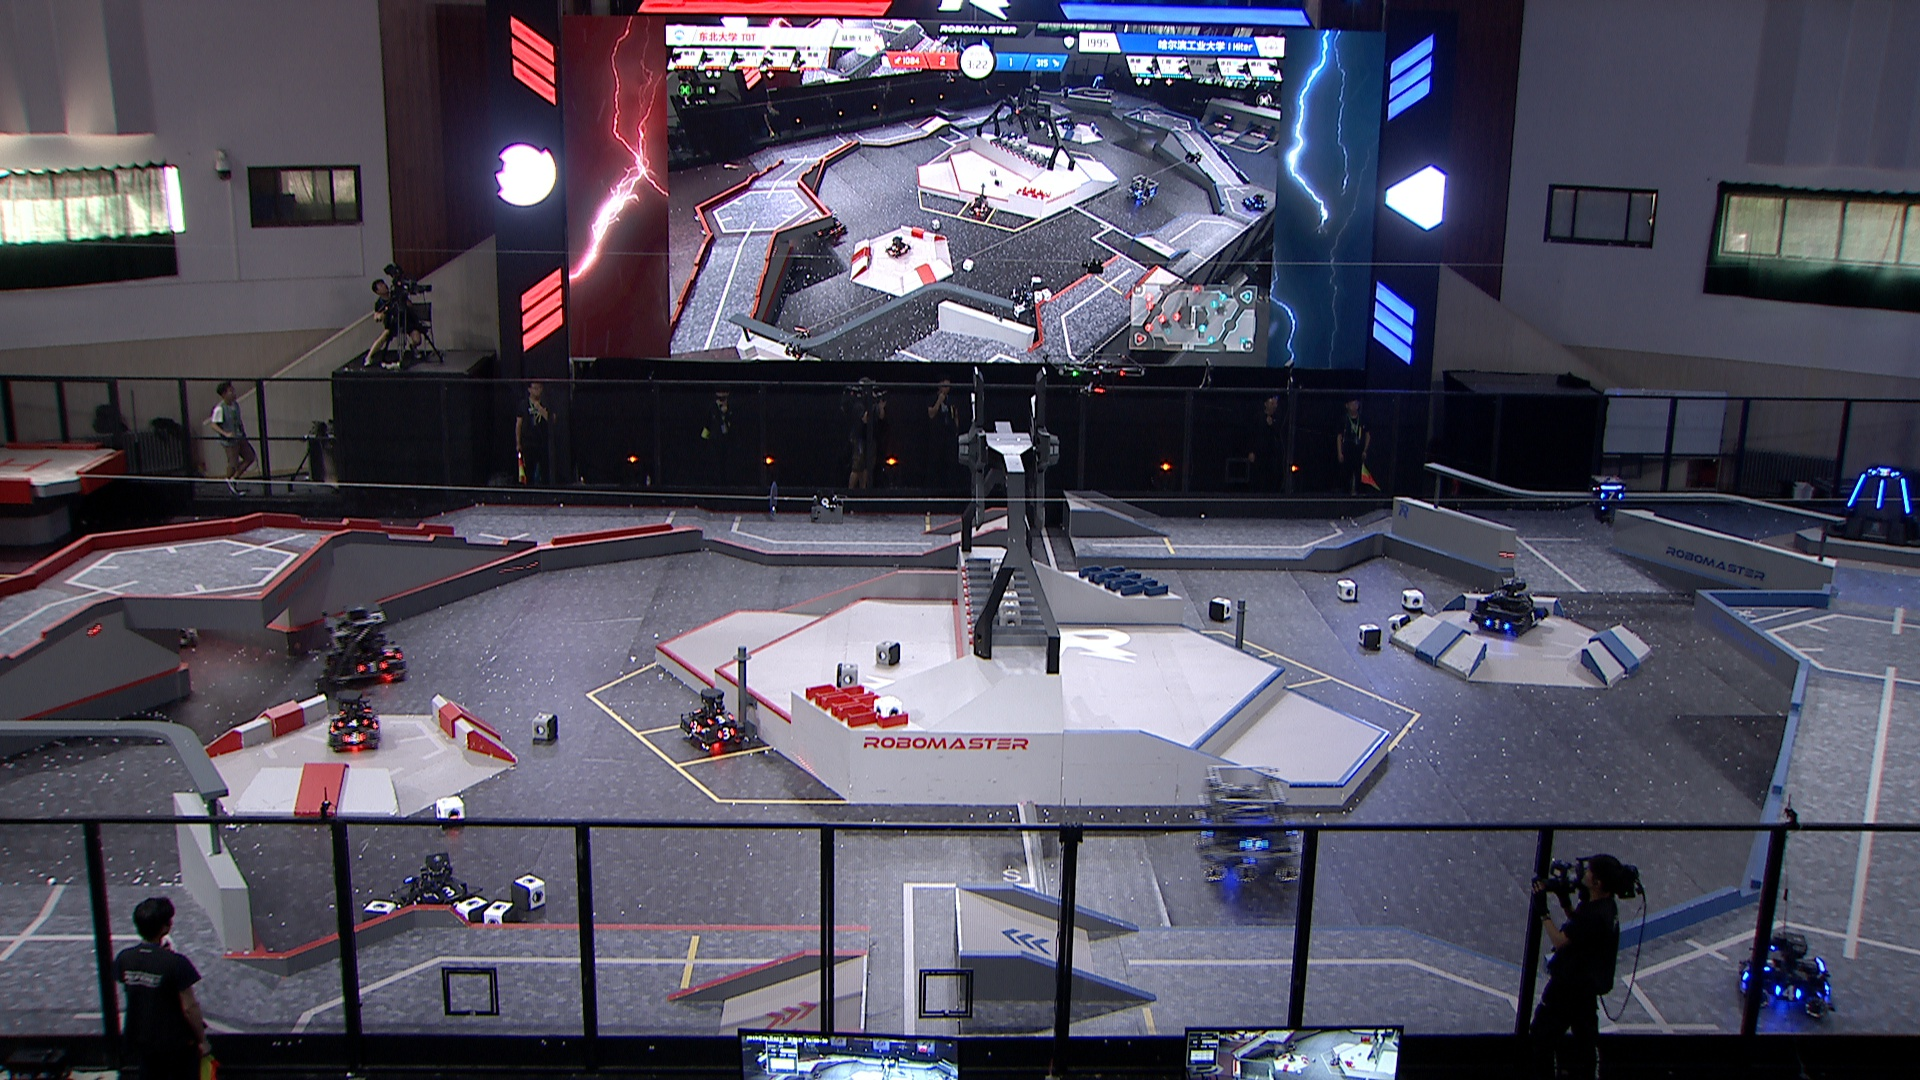armor: (1844, 471, 1866, 508), (1774, 982, 1803, 1004), (1898, 476, 1912, 513), (1240, 836, 1269, 855), (433, 882, 465, 898), (361, 659, 382, 675), (344, 731, 365, 746), (708, 713, 733, 727), (716, 727, 737, 741), (1485, 617, 1510, 629), (1870, 467, 1898, 477), (1600, 488, 1621, 501), (381, 641, 400, 655), (1876, 476, 1884, 508), (1524, 607, 1539, 624), (686, 721, 702, 735), (340, 717, 363, 727)
base: (1826, 460, 1920, 546)
car: (1189, 765, 1313, 889), (309, 597, 405, 694), (1737, 924, 1833, 1021), (392, 851, 483, 922), (1472, 570, 1549, 640), (676, 690, 746, 756), (318, 694, 386, 752)
ignore: (1126, 173, 1160, 207), (782, 324, 812, 363), (814, 211, 847, 243), (884, 233, 913, 258), (967, 194, 993, 220), (1240, 191, 1269, 215), (1088, 73, 1109, 95), (1055, 112, 1076, 131), (1058, 83, 1076, 100)
watcher: (1586, 472, 1629, 527)
